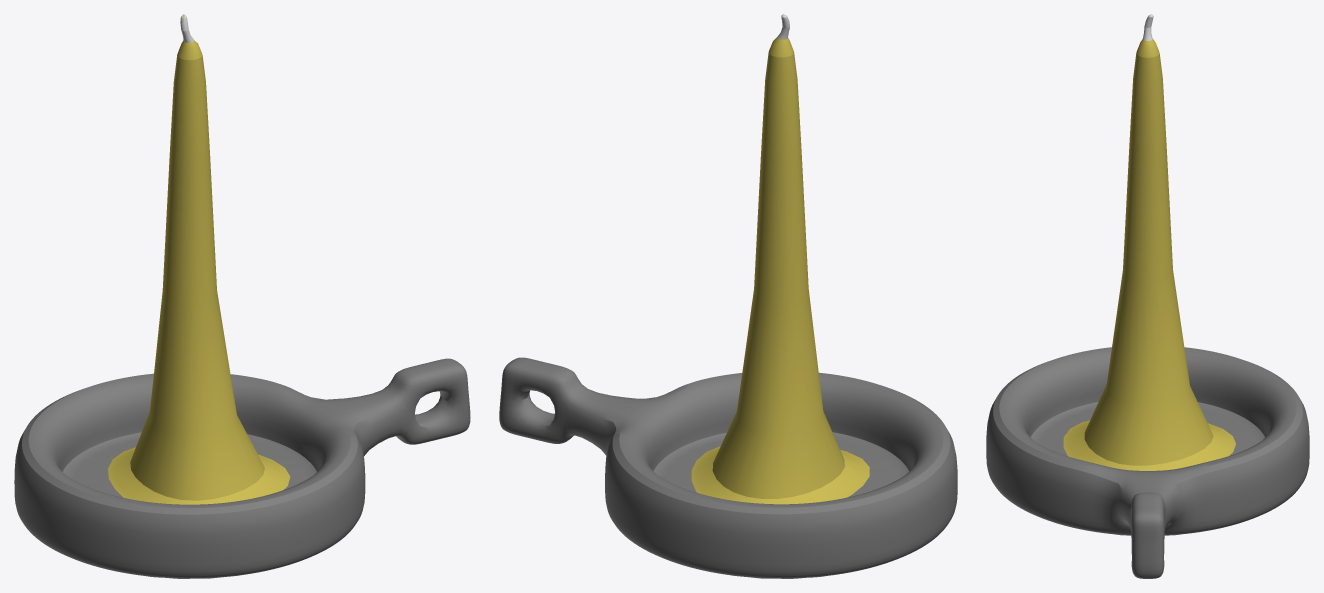
Rendered from samdanlik.fbx.
The picture shows the model from 3 angles, left to right: view 1: azimuth 30°, elevation 25°; view 2: azimuth 150°, elevation 25°; view 3: azimuth 270°, elevation 25°; orthographic projection. The views are drawn at different scales.
Visible parts, largest first — view 1: Circle, Vert; view 2: Circle, Vert; view 3: Circle, Vert.
Boxes of the visible parts, box(x1,y1,x2,y2) form: Circle: box(14, 358, 470, 578); Vert: box(108, 14, 290, 504); Circle: box(499, 357, 957, 578); Vert: box(691, 14, 869, 504); Circle: box(986, 347, 1309, 578); Vert: box(1063, 14, 1235, 470).
Bounding box in the file's own units: 318 × 360 × 226.
